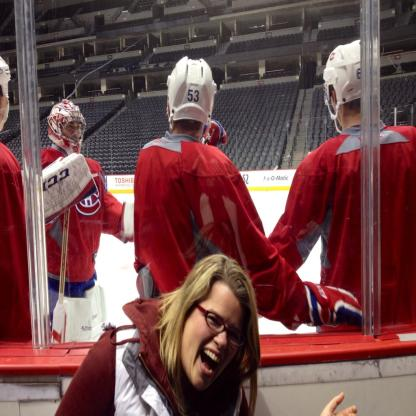Helmet: (164, 54, 215, 139), (323, 39, 363, 135), (46, 98, 86, 158), (0, 57, 11, 133)
